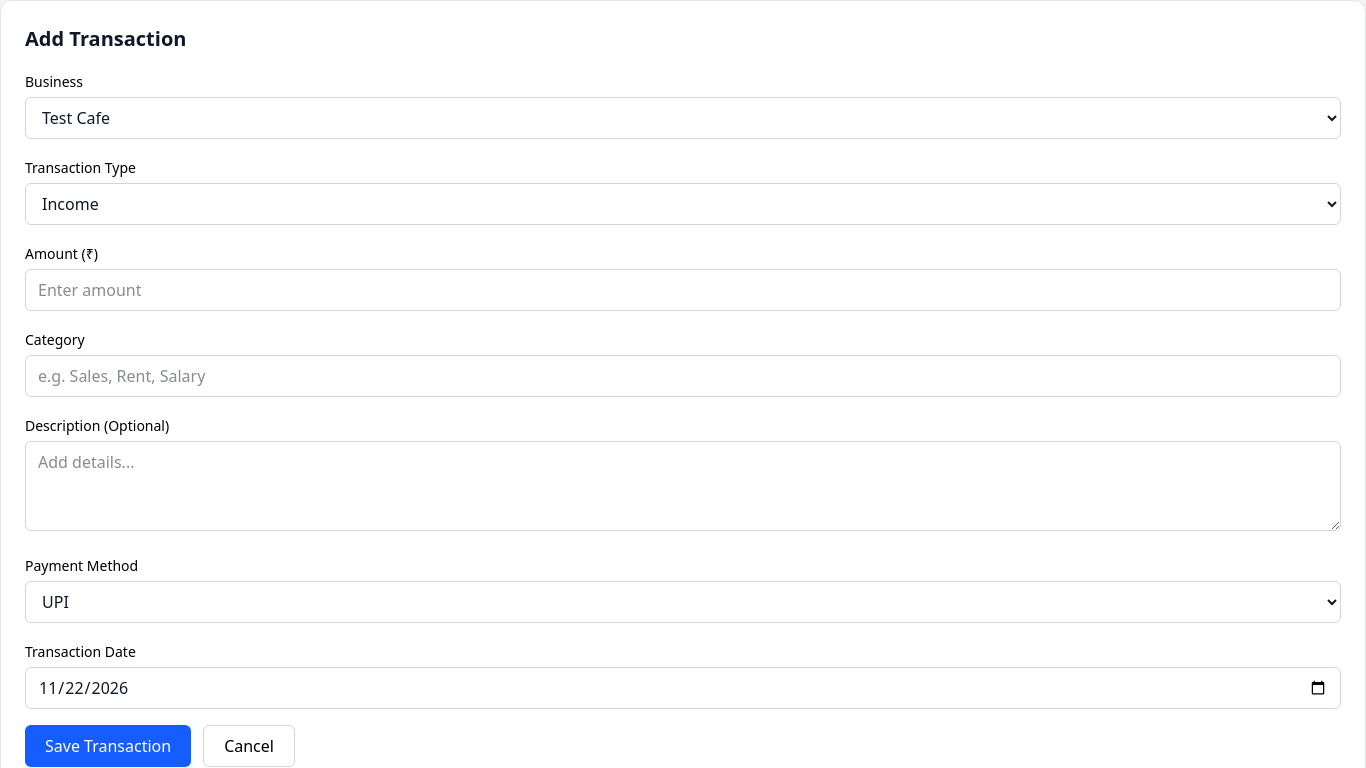
Scenario: TransactionForm › shows an error when amount is zero
Type "0" into the number field labelled "Amount (₹)" at (683, 290), box [25,269,1341,311]
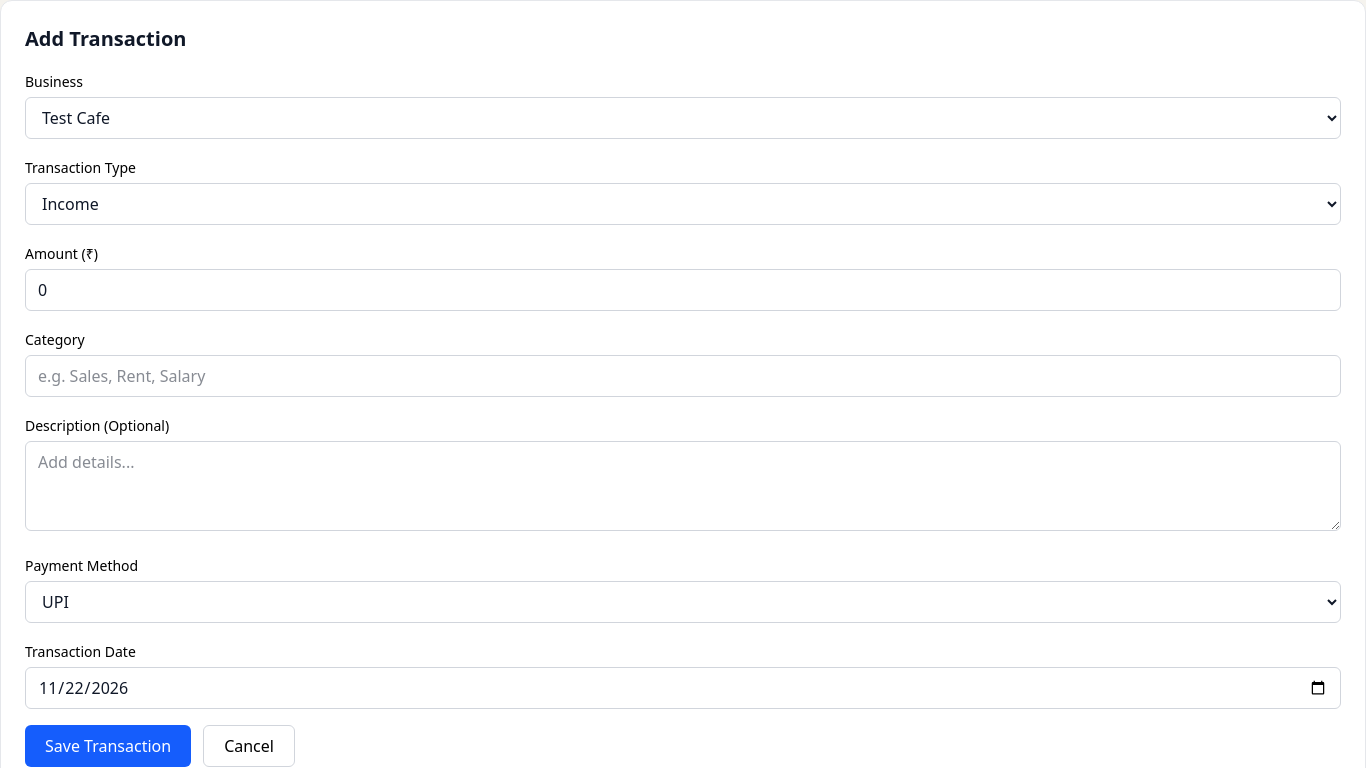
Type "Sales" into the field labelled "Category" at (683, 376), box [25,355,1341,397]
(page scrolled)
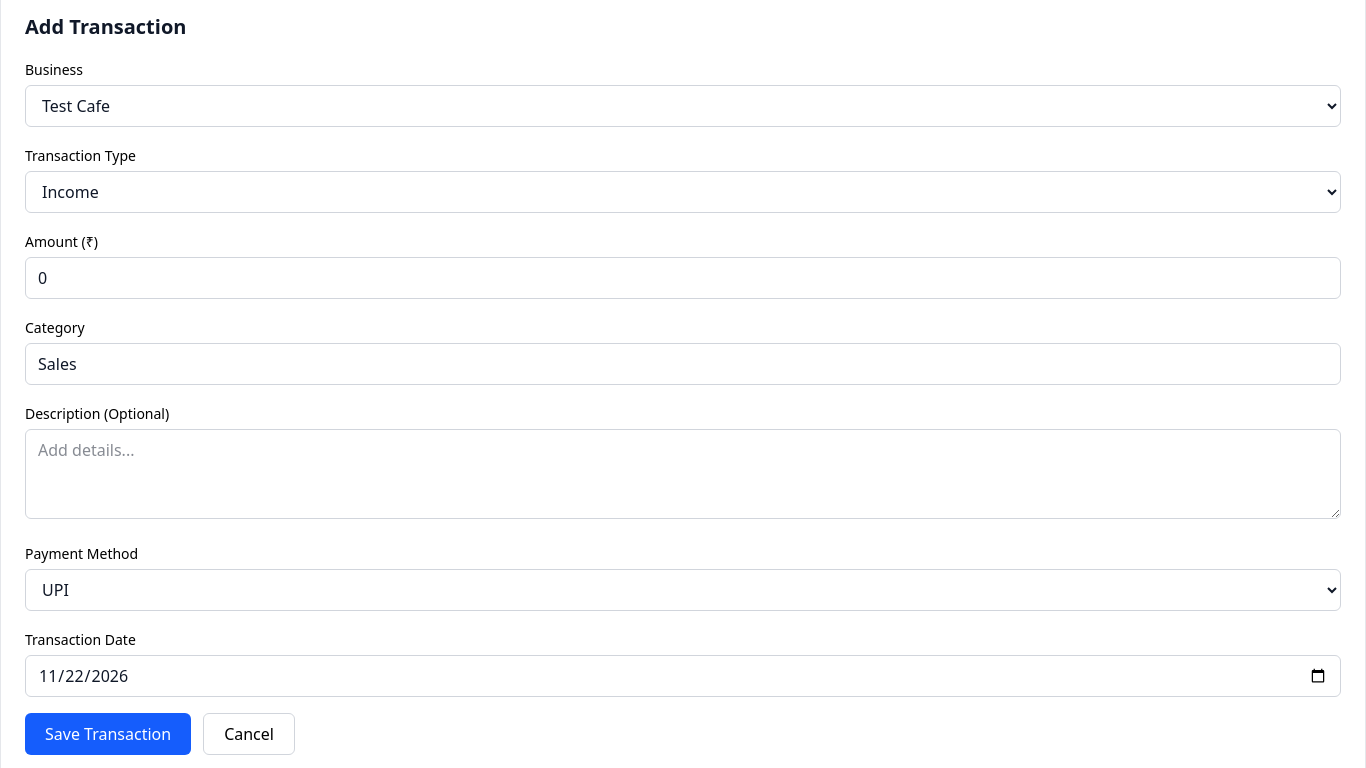
Submit the form named "Save Transaction"
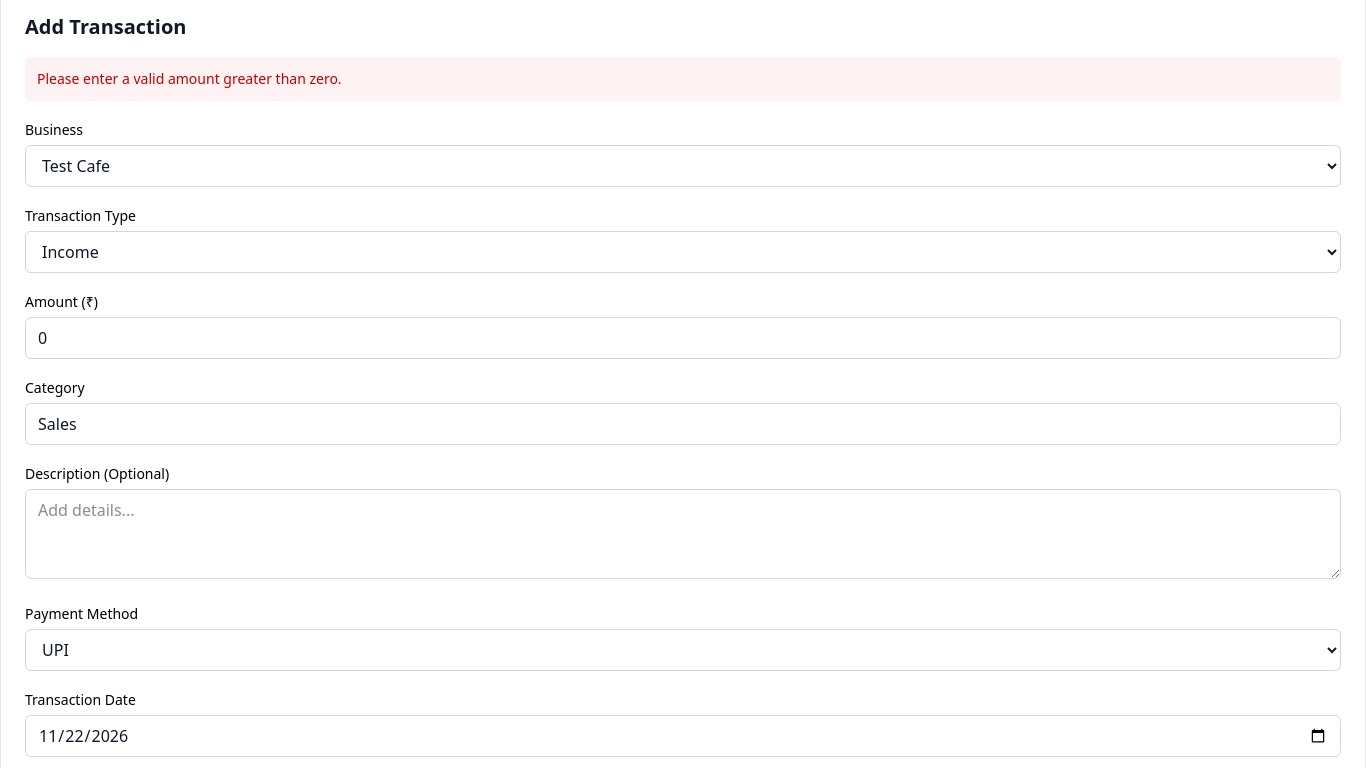
Expected: the message reads "Please enter a valid amount greater than zero.", [37,69,342,88]
